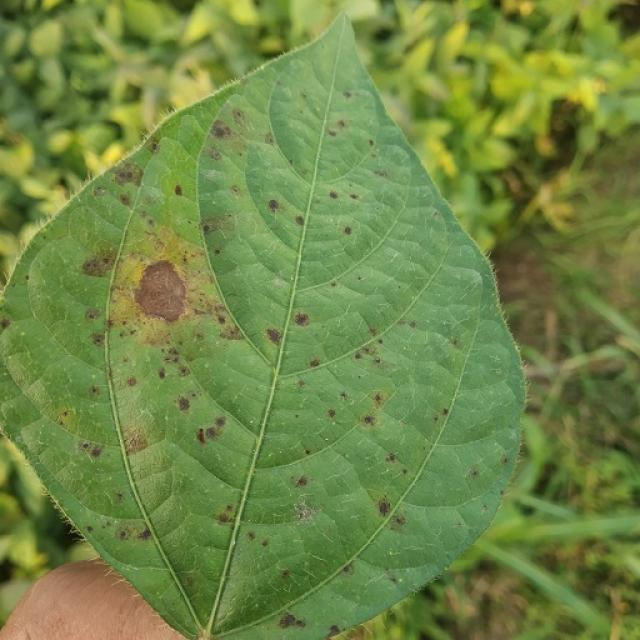Anthracnose: (125, 256, 202, 344), (214, 119, 250, 156), (201, 213, 235, 238), (112, 161, 143, 187), (81, 255, 115, 277), (113, 521, 147, 543), (202, 417, 226, 443), (57, 408, 80, 433), (292, 498, 316, 521), (124, 432, 148, 455), (278, 612, 306, 630), (81, 442, 104, 459), (293, 310, 310, 327), (265, 327, 281, 345), (377, 499, 391, 517), (84, 307, 102, 321), (392, 513, 406, 528), (177, 396, 190, 412), (90, 332, 104, 346), (196, 428, 207, 445), (295, 475, 308, 488), (267, 199, 280, 212), (363, 415, 376, 426), (217, 512, 230, 523), (373, 392, 384, 405), (0, 317, 11, 330), (374, 169, 388, 179), (126, 376, 137, 388), (193, 633, 211, 640), (309, 358, 321, 368), (385, 453, 397, 463), (294, 215, 304, 226), (328, 190, 339, 200), (246, 531, 256, 541), (89, 385, 99, 395), (174, 185, 183, 196), (337, 119, 346, 129), (339, 391, 348, 401), (343, 226, 352, 235), (327, 409, 336, 418), (231, 185, 240, 194), (281, 570, 290, 578), (470, 469, 479, 477), (408, 320, 417, 328), (342, 91, 352, 98), (304, 448, 312, 456), (261, 539, 269, 547), (442, 408, 449, 416)
Blackgram: (0, 16, 524, 639)
